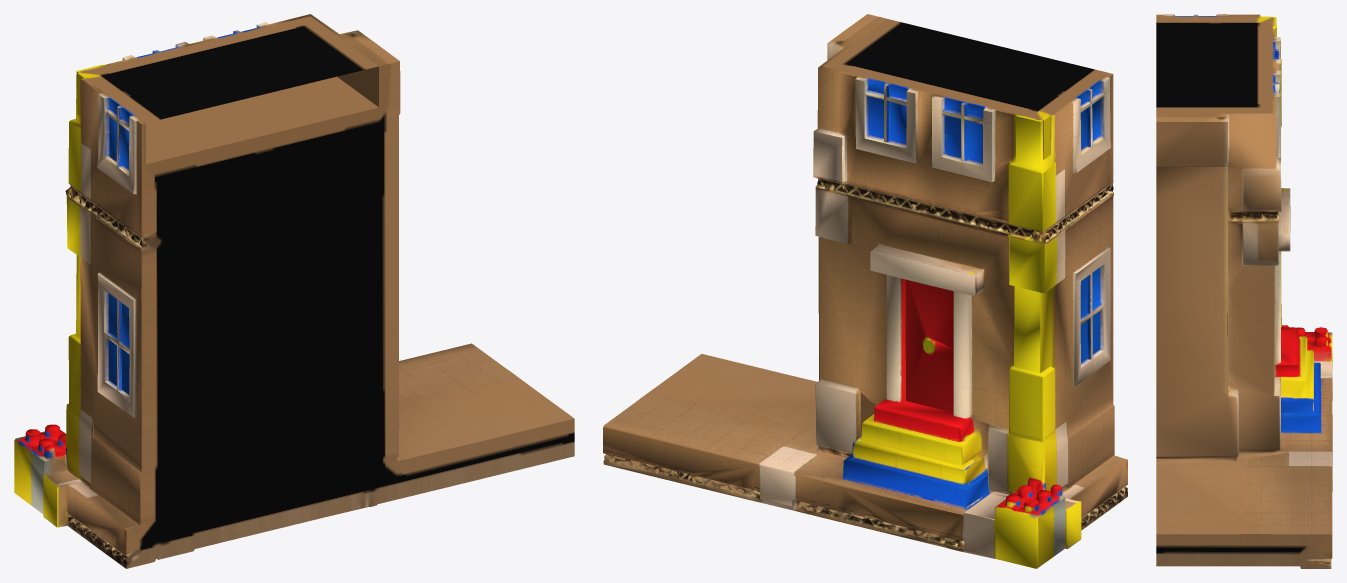
The model's file is 3-ground-floor-back-left.fbx.
The picture shows the model from 3 angles, left to right: view 1: azimuth 30°, elevation 25°; view 2: azimuth 150°, elevation 25°; view 3: azimuth 270°, elevation 25°; orthographic projection. The views are drawn at different scales.
Parts seen in each view (by area): view 1: ground-floor-back-left; view 2: ground-floor-back-left; view 3: ground-floor-back-left.
Boxes of the visible parts, <box> form: ground-floor-back-left: <box>14,14,574,568</box>; ground-floor-back-left: <box>603,14,1127,568</box>; ground-floor-back-left: <box>1156,14,1332,568</box>.
Bounding box in the file's own units: 11025 × 10139 × 4329.
Materials: 1 (1 with a texture image).
